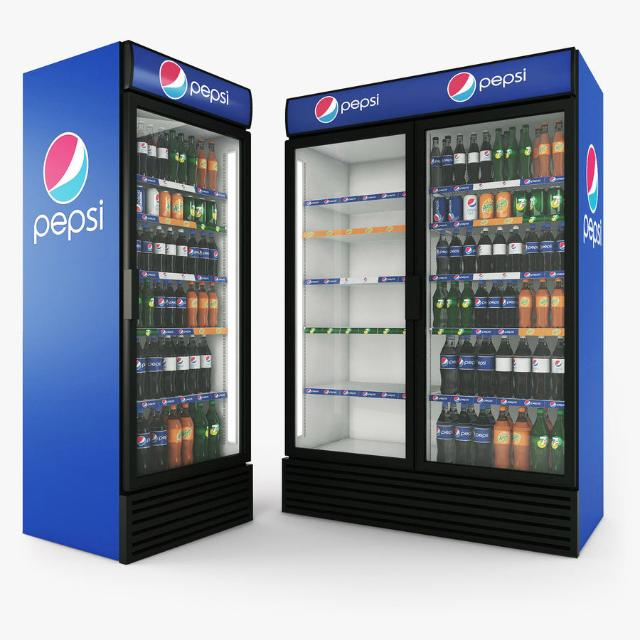Cooling-Display: (280, 70, 598, 552), (9, 44, 255, 552)
